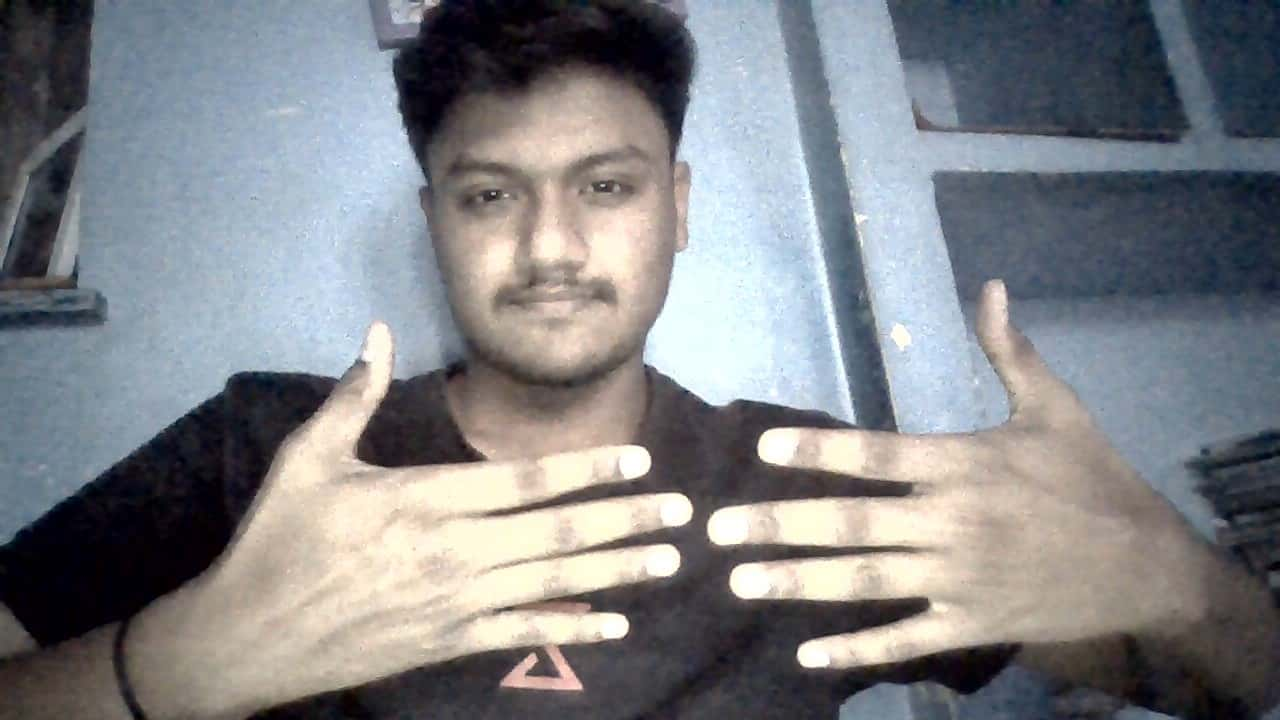hand: (708, 277, 1138, 671), (240, 323, 694, 667)
